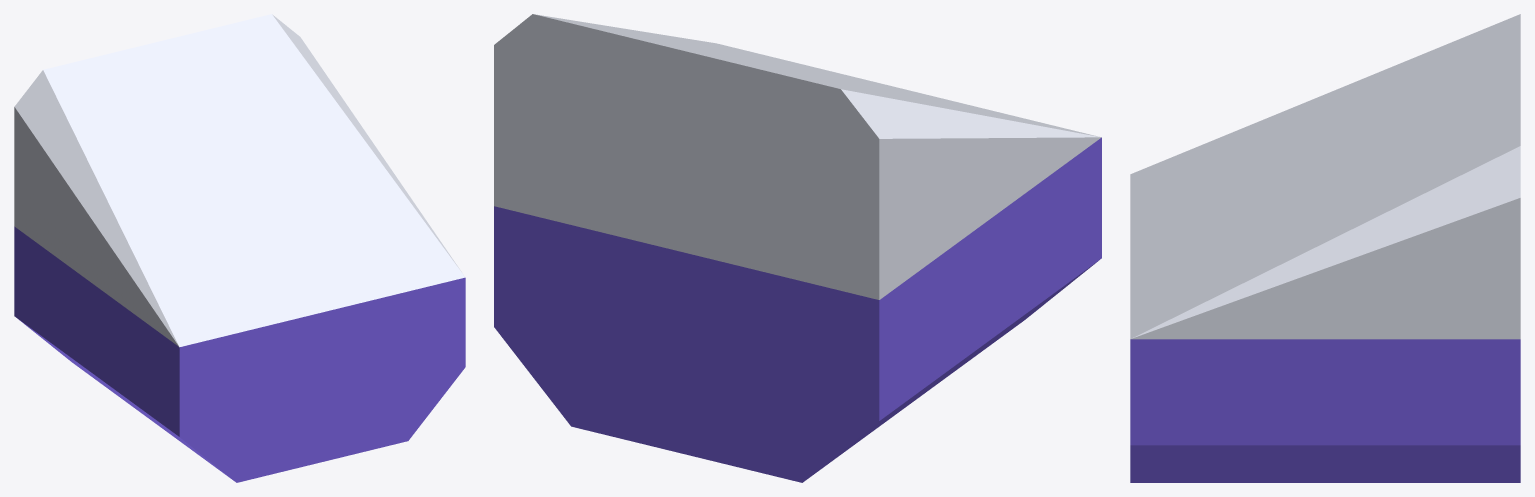
The model's file is Body_4.fbx.
3 views of the same model, side by side, from view 1: azimuth 30°, elevation 25°; view 2: azimuth 150°, elevation 25°; view 3: azimuth 270°, elevation 25° (orthographic). The views are drawn at different scales.
Visible parts, largest first — view 1: hull_transitionLower; view 2: hull_transitionLower; view 3: hull_transitionLower.
Boxes of the visible parts, x1,y1,x2,y2 form: hull_transitionLower: [14, 14, 465, 482]; hull_transitionLower: [494, 14, 1101, 482]; hull_transitionLower: [1130, 14, 1520, 482].
Bounding box in the file's own units: 10 × 10 × 10.
